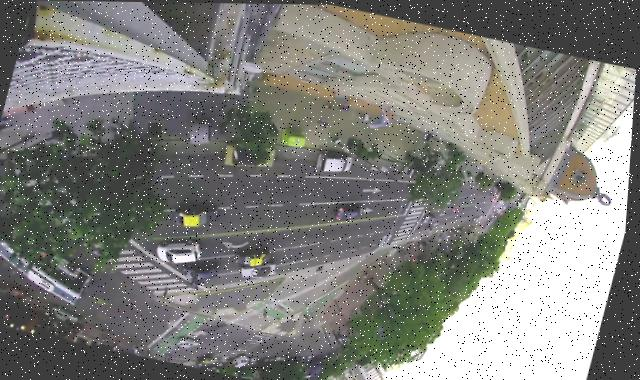bus: (0, 218, 107, 305)
car: (157, 231, 207, 266), (174, 197, 223, 231), (316, 144, 356, 174), (236, 240, 275, 269), (185, 255, 223, 282), (242, 254, 280, 281), (336, 197, 367, 223), (53, 303, 85, 322), (6, 283, 32, 299), (179, 333, 204, 348), (235, 350, 253, 366), (201, 349, 218, 362), (425, 210, 439, 222), (404, 164, 416, 174), (253, 354, 261, 363), (474, 214, 481, 220), (478, 213, 484, 218), (498, 188, 503, 193), (492, 188, 497, 193), (492, 194, 497, 199), (485, 210, 490, 215), (495, 195, 499, 199), (482, 213, 485, 216)
